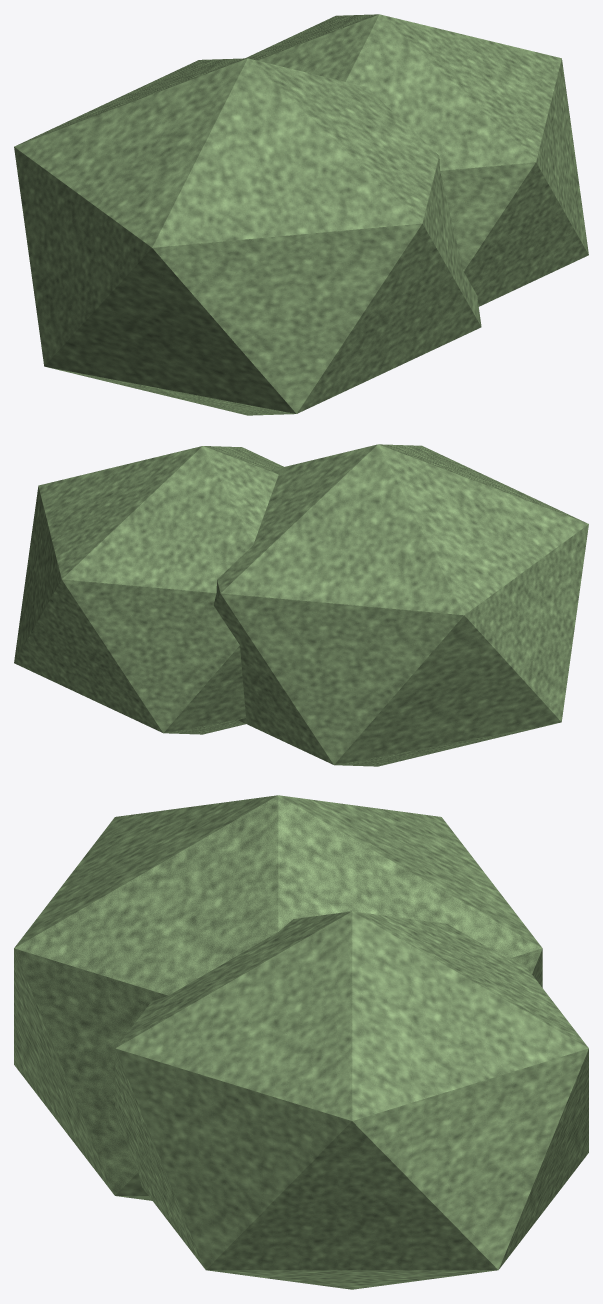
The model's file is bush_round.glb.
3 views of the same model, one above another, from view 1: azimuth 30°, elevation 25°; view 2: azimuth 150°, elevation 25°; view 3: azimuth 270°, elevation 25° (orthographic). The views are drawn at different scales.
Visible parts, largest first — view 1: bush_347, bush_348; view 2: bush_347, bush_348; view 3: bush_348, bush_347.
Boxes of the visible parts, <box> form: bush_347: <box>14,58,481,415</box>; bush_348: <box>245,14,588,306</box>; bush_347: <box>213,444,588,766</box>; bush_348: <box>14,446,283,734</box>; bush_348: <box>115,911,588,1289</box>; bush_347: <box>14,795,542,1200</box>.
Size of the model in its own units: 0.9168 by 0.5702 by 0.7033.
1 material, 1 textured.
